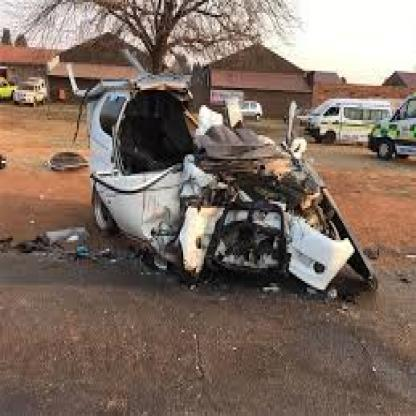accident: (51, 61, 384, 359)
